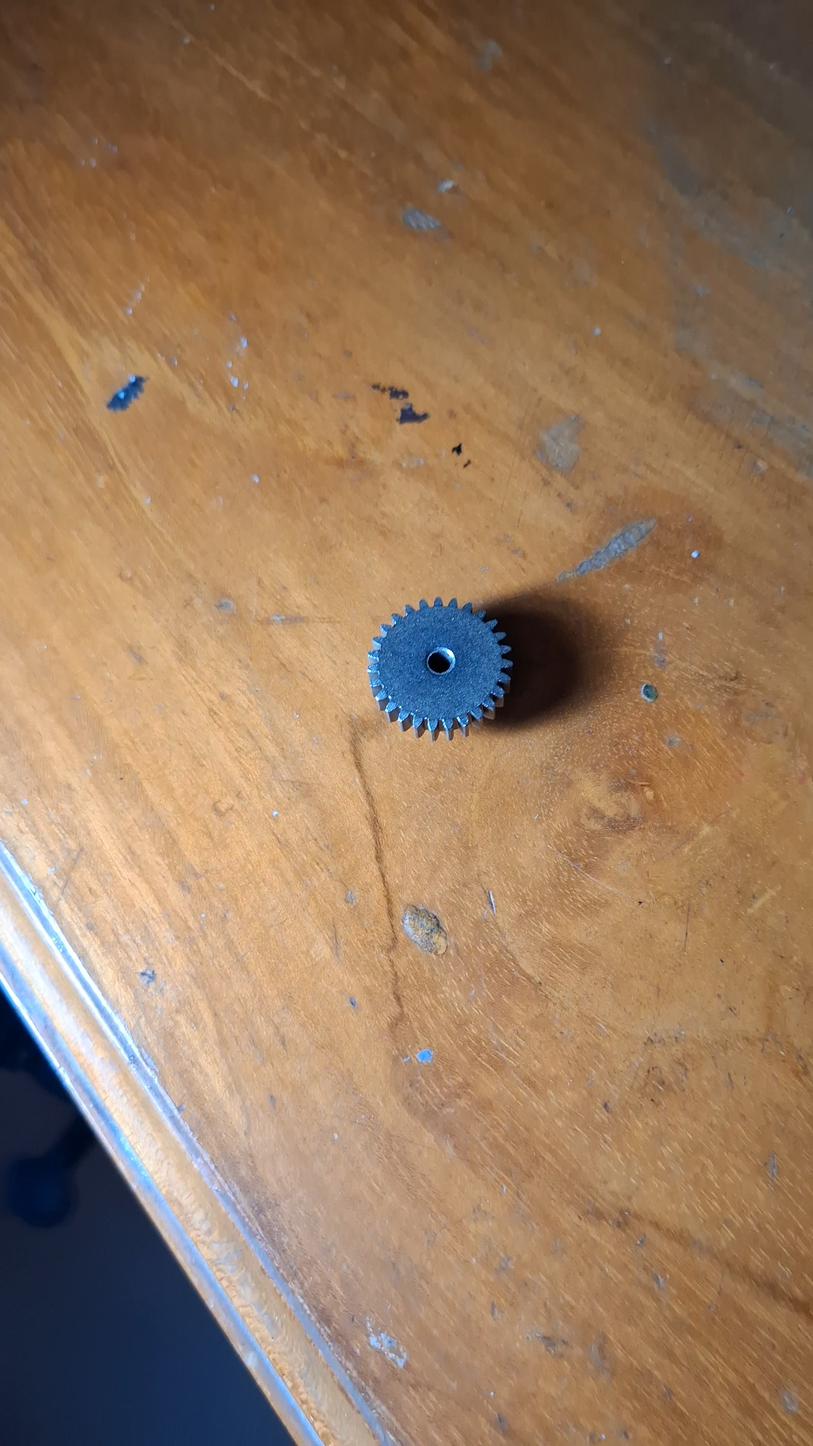spur gear: (368, 598, 512, 737)
